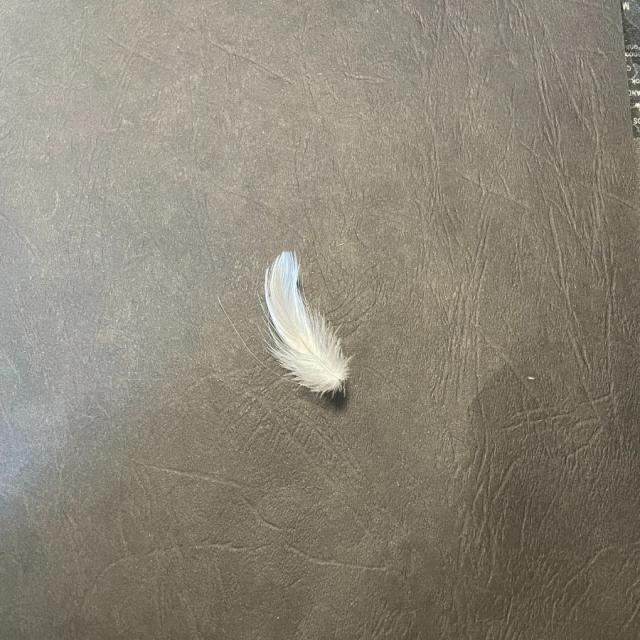feather: (260, 249, 352, 396)
